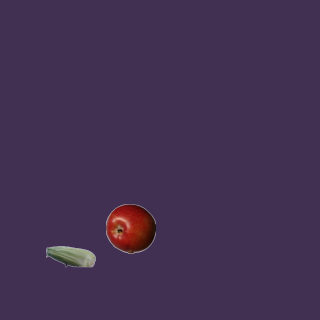Apple Braeburn: (105, 203, 155, 253)
Corn Husk: (45, 231, 95, 281)
